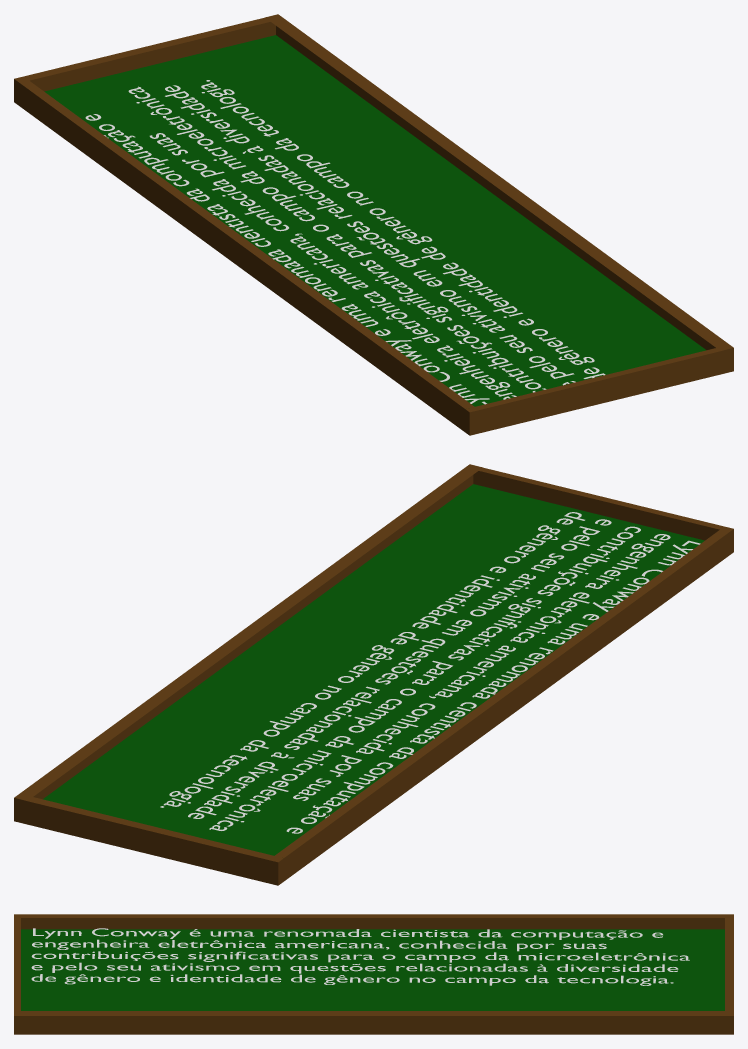
The model's file is Lynn.fbx.
3 views of the same model, one above another, from view 1: azimuth 30°, elevation 25°; view 2: azimuth 150°, elevation 25°; view 3: azimuth 270°, elevation 25° (orthographic). The views are drawn at different scales.
Visible parts, largest first — view 1: Cube, Text; view 2: Cube, Text; view 3: Cube, Text.
Boxes of the visible parts, <box> form: Cube: <box>14,14,733,435</box>; Text: <box>85,80,605,404</box>; Cube: <box>14,464,733,885</box>; Text: <box>160,512,700,833</box>; Cube: <box>14,914,733,1034</box>; Text: <box>31,928,689,985</box>.
Bounding box in the file's own units: 624 × 53.07 × 1865.
